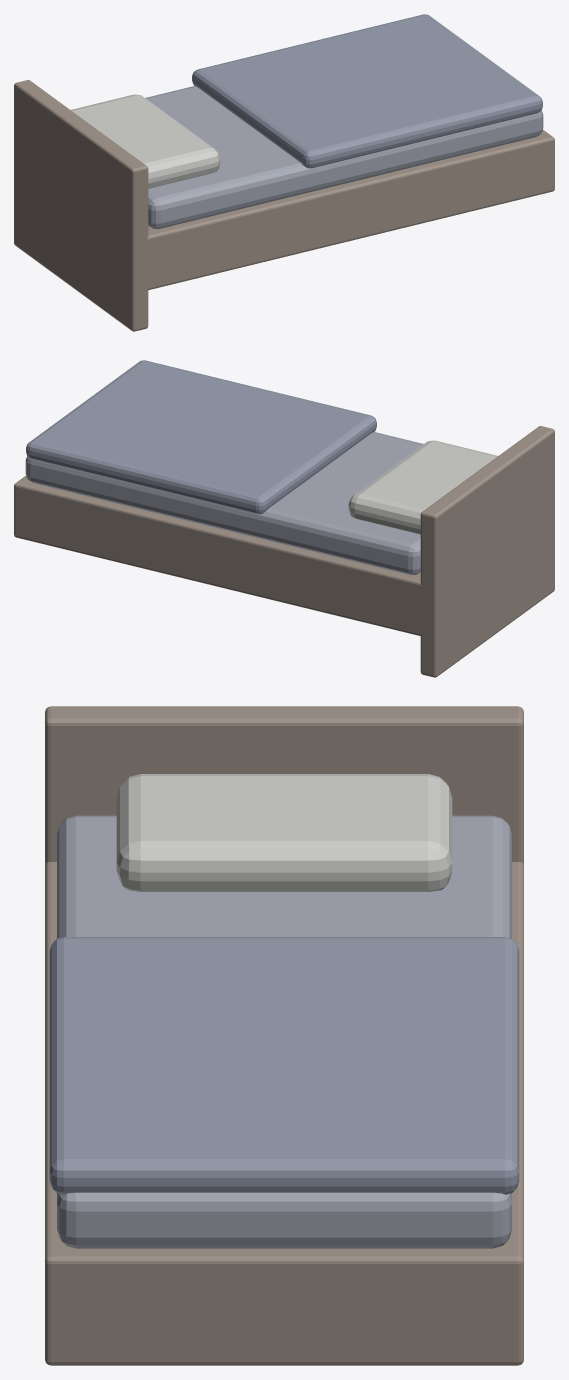
The model's file is sketch_bed.glb.
3 views of the same model, one above another, from view 1: azimuth 30°, elevation 25°; view 2: azimuth 150°, elevation 25°; view 3: azimuth 270°, elevation 25° (orthographic). The views are drawn at different scales.
Parts seen in each view (by area): view 1: Cube.004, Cube, Cube.001, Cube.002, Cube.003; view 2: Cube.004, Cube, Cube.001, Cube.002, Cube.003; view 3: Cube.004, Cube, Cube.002, Cube.001, Cube.003.
Part boxes in pixels (x1,y1,x2,y2): Cube.004: (192,14,542,168); Cube: (143,130,554,289); Cube.001: (14,80,148,331); Cube.002: (145,86,543,229); Cube.003: (71,94,220,188); Cube.004: (26,360,376,514); Cube: (14,476,425,635); Cube.001: (420,426,554,677); Cube.002: (25,432,423,575); Cube.003: (348,440,497,534); Cube.004: (49,937,519,1194); Cube: (45,862,523,1365); Cube.002: (57,815,511,1248); Cube.001: (45,706,523,863); Cube.003: (116,774,452,891).
Bounding box in the file's own units: 2.04 × 0.75 × 1.
